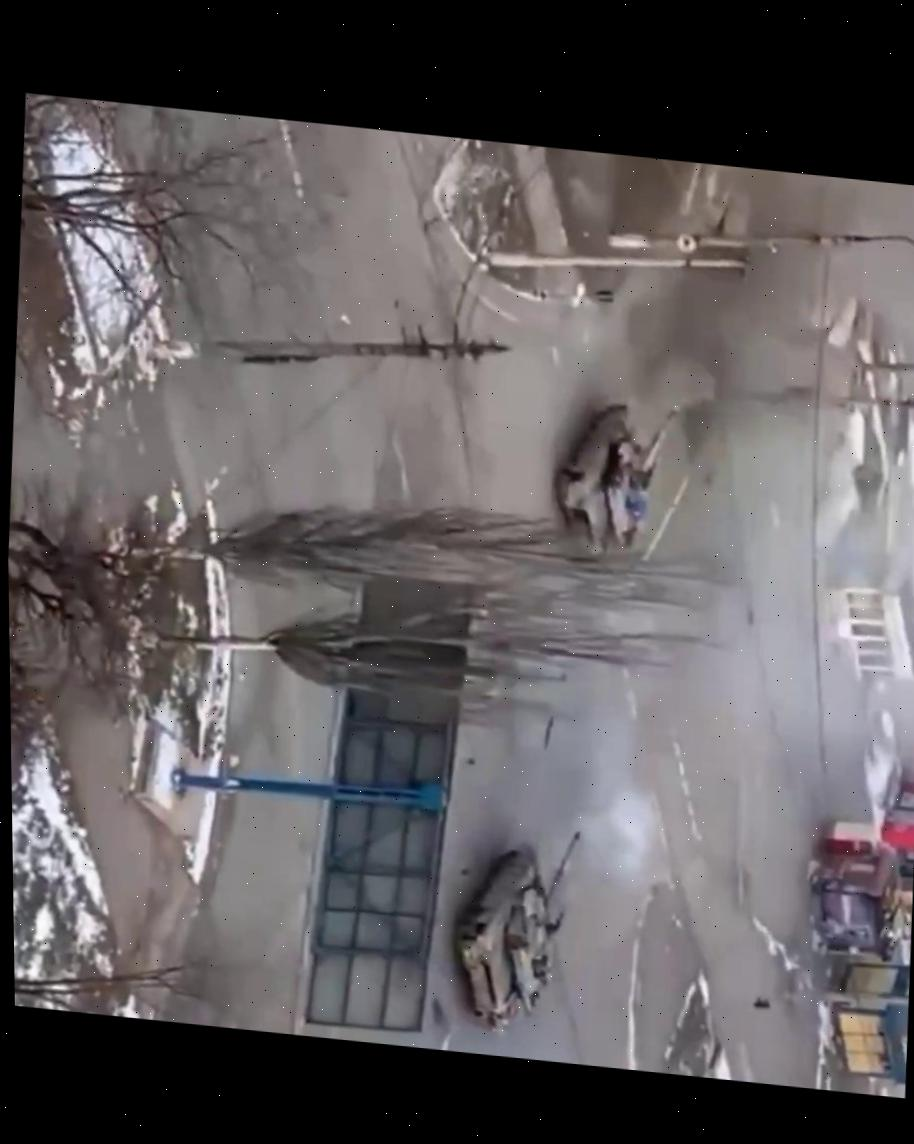tank: (447, 817, 585, 1043), (548, 392, 684, 572)
